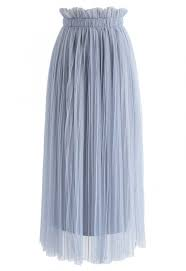C_skirt: (28, 3, 159, 266)
